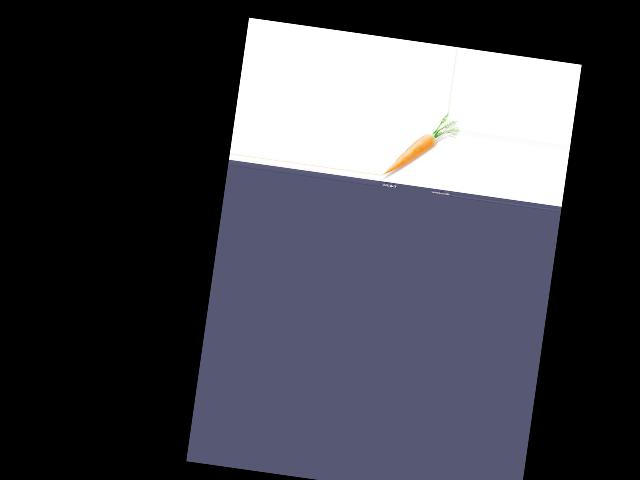carrot: (382, 115, 445, 184)
